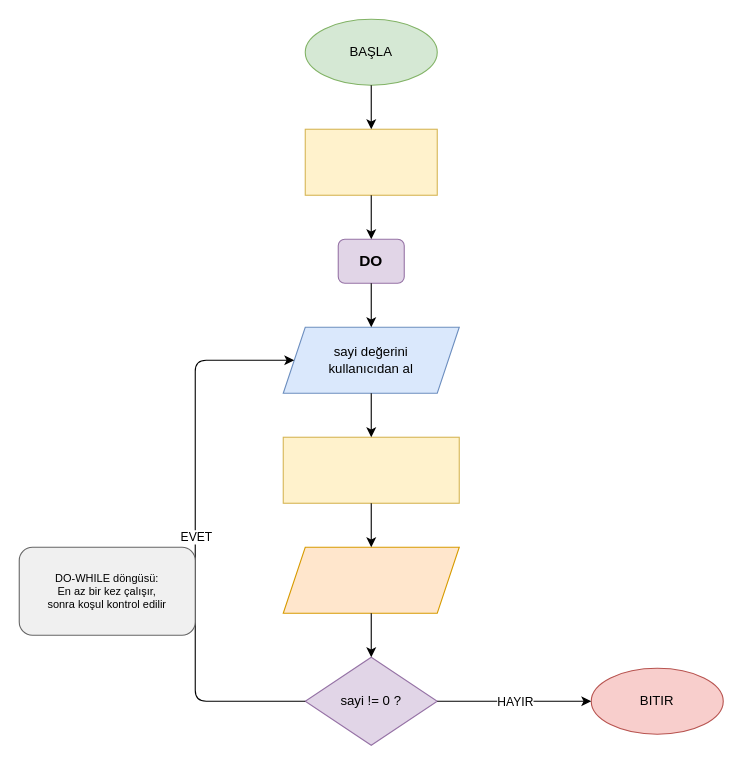
Some shapes in this 743 by 765 pixel diagram are drawn without their labels. Each missing label, with the box of its shape:
toplam değerini göster: (282, 546, 459, 613)
toplam ← 0 sayi ← 0: (304, 128, 437, 195)
toplam ← toplam + sayi: (282, 436, 459, 503)
